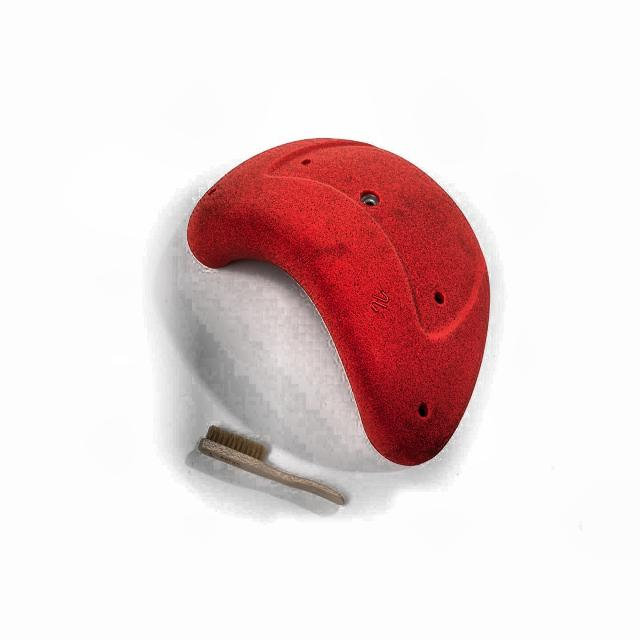Hold: (169, 108, 521, 506)
